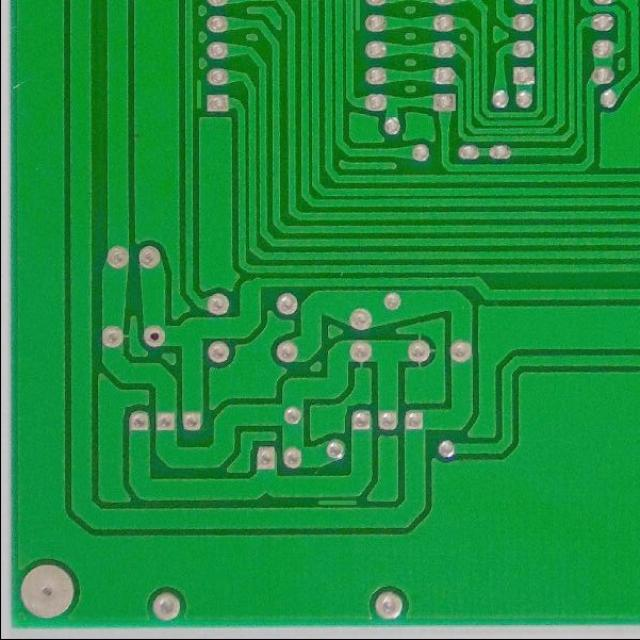spurious_copper: (309, 494, 364, 513), (346, 1, 366, 34), (192, 74, 206, 113)
